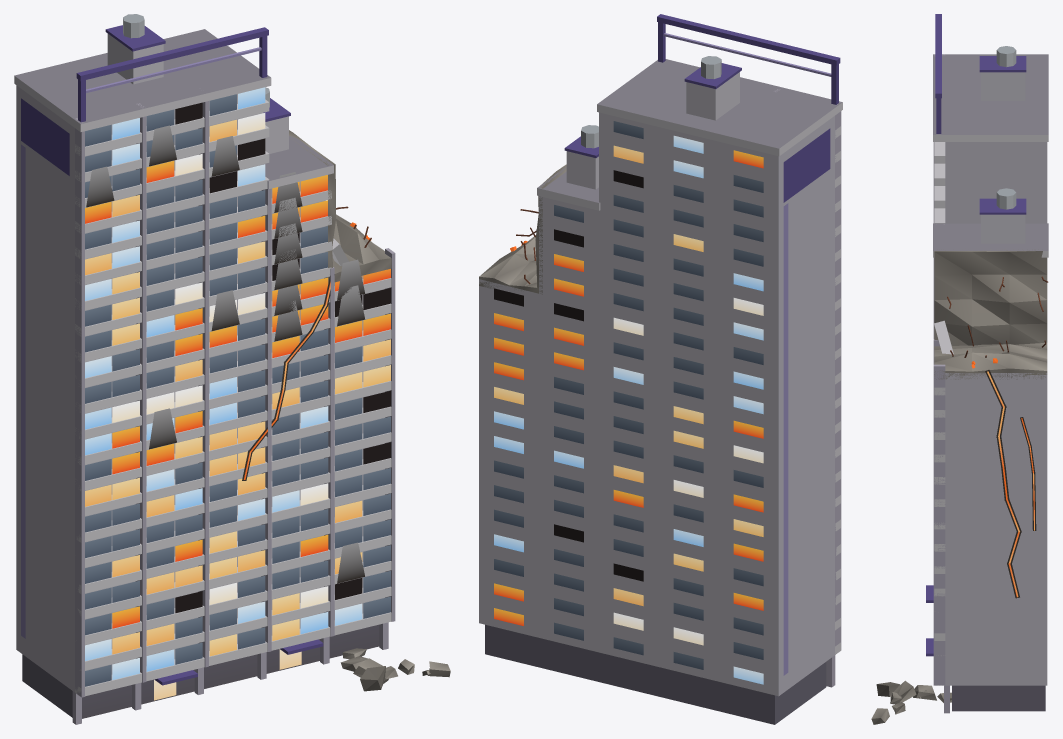
File: bld_apt_D_damaged.meshopt.glb
3 renders of one model, left to right at view 1: azimuth 30°, elevation 25°; view 2: azimuth 150°, elevation 25°; view 3: azimuth 270°, elevation 25°, orthographic. The views are drawn at different scales.
Parts seen in each view (by area): view 1: bld_apt_D_damaged; view 2: bld_apt_D_damaged; view 3: bld_apt_D_damaged.
Boxes of the visible parts, x1,y1,x2,y2 form: bld_apt_D_damaged: (14,14,450,724); bld_apt_D_damaged: (479,14,842,724); bld_apt_D_damaged: (871,14,1048,724).
Size of the model in its own units: 39.77 by 74.83 by 20.86.
